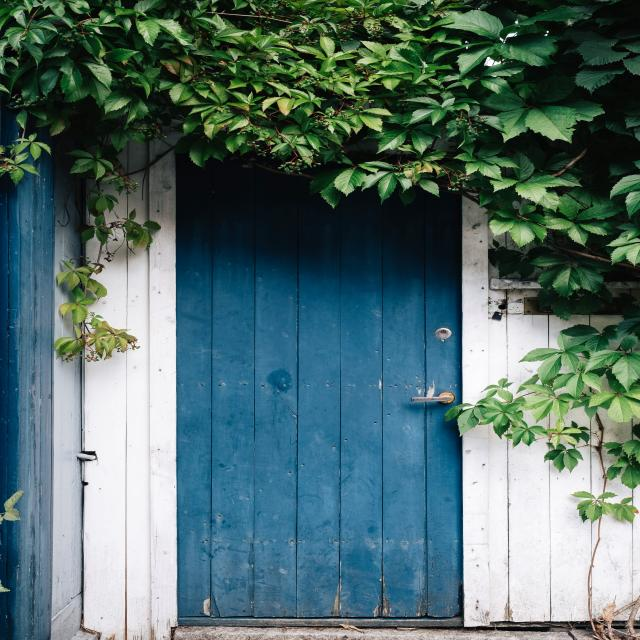door-handle: (412, 391, 456, 404)
